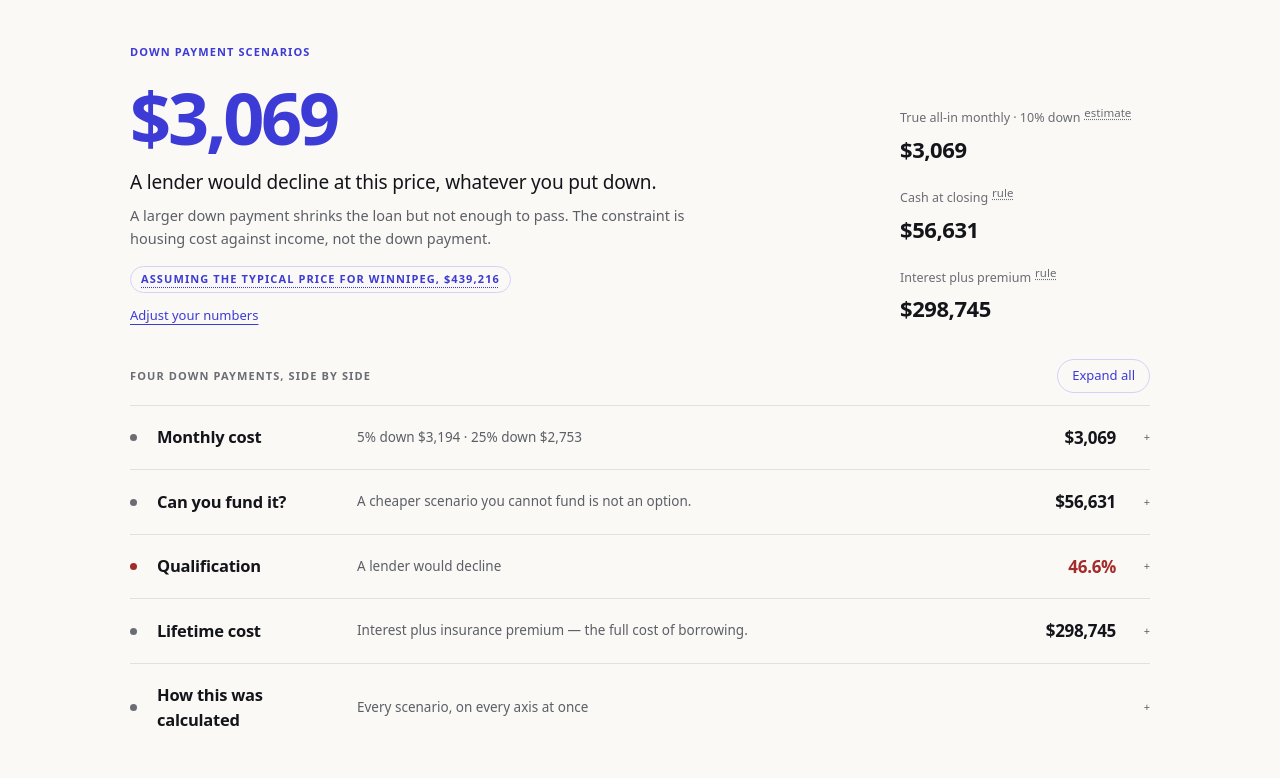
it: Scenarios — four columns, one recommendation › marks the reader's own column, separately from the recommended one
Step 1. Click the button "Monthly cost 5% down $3,194 · 25% down $2,753 $3,069 +" → [209, 437], box [130,406,1150,469]
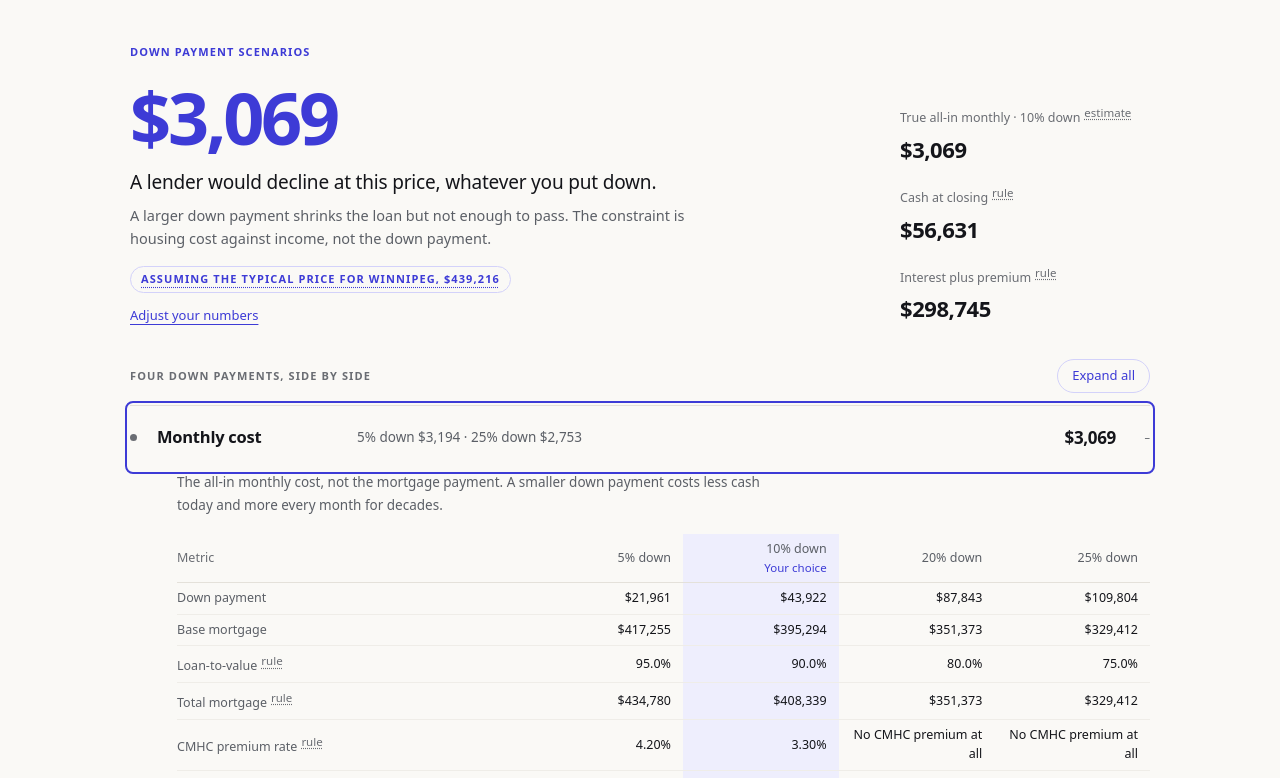
Check: the column heading "10% down Your choice" is shown, box [683,534,839,582]
